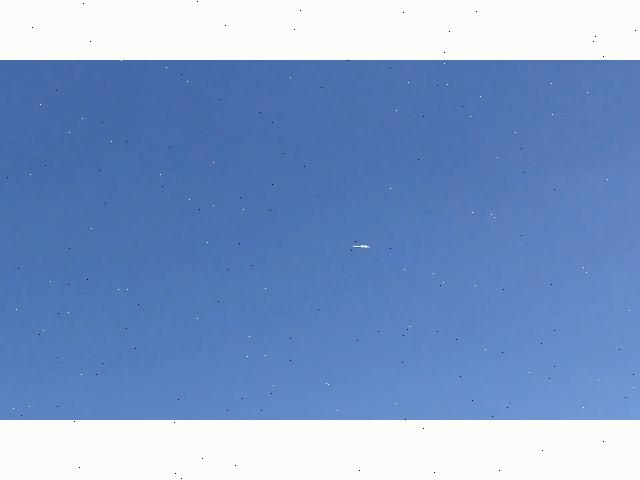Anti-Drone: (347, 232, 375, 259)
